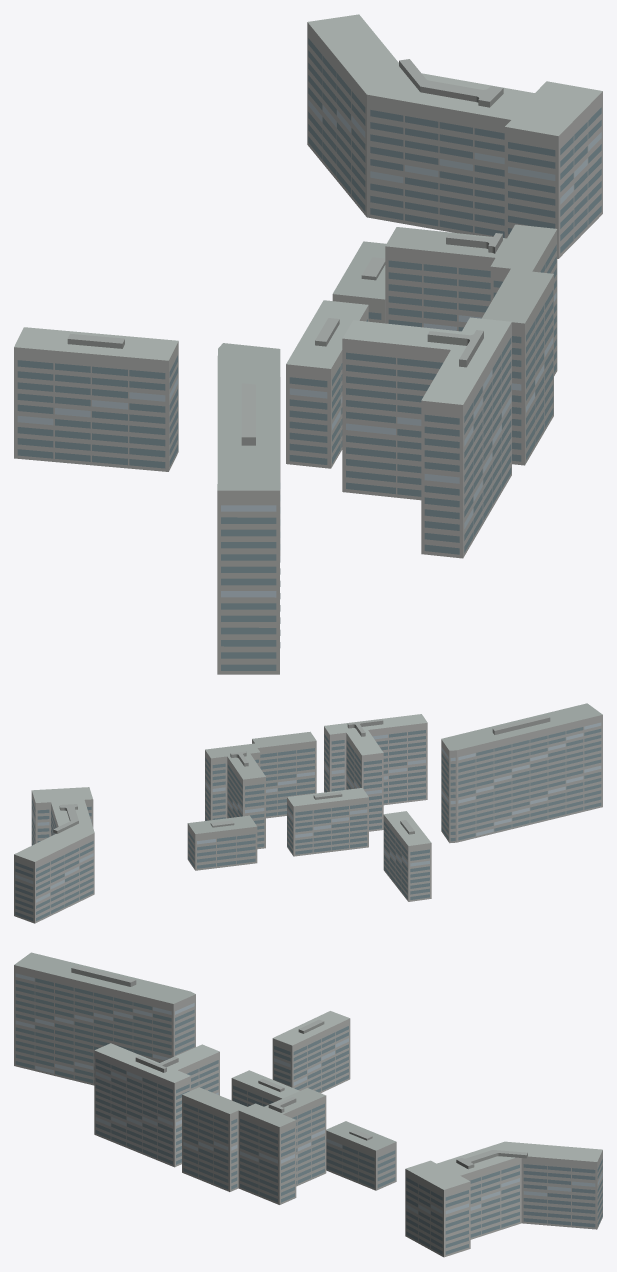
The model's file is apt-a15108003.glb.
3 views of the same model, one above another, from view 1: azimuth 30°, elevation 25°; view 2: azimuth 150°, elevation 25°; view 3: azimuth 270°, elevation 25° (orthographic). The views are drawn at different scales.
Parts seen in each view (by area): view 1: apt-a15108003; view 2: apt-a15108003; view 3: apt-a15108003.
Part boxes in pixels (x1=…): apt-a15108003: x1=14, y1=14, x2=602, y2=674; apt-a15108003: x1=14, y1=703, x2=602, y2=923; apt-a15108003: x1=14, y1=952, x2=602, y2=1257.
Size of the model in its own units: 198 by 47.81 by 242.
